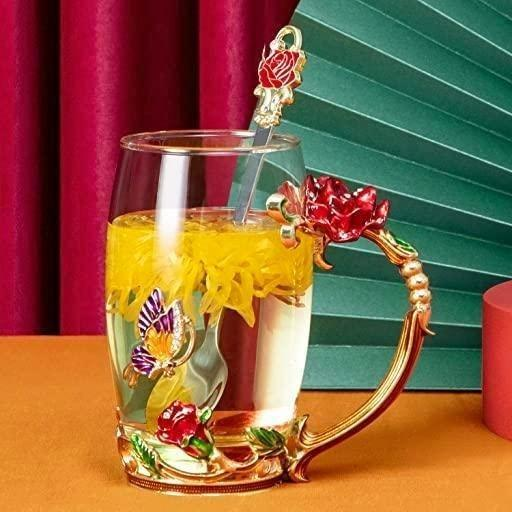glass-mug: (100, 126, 439, 503)
